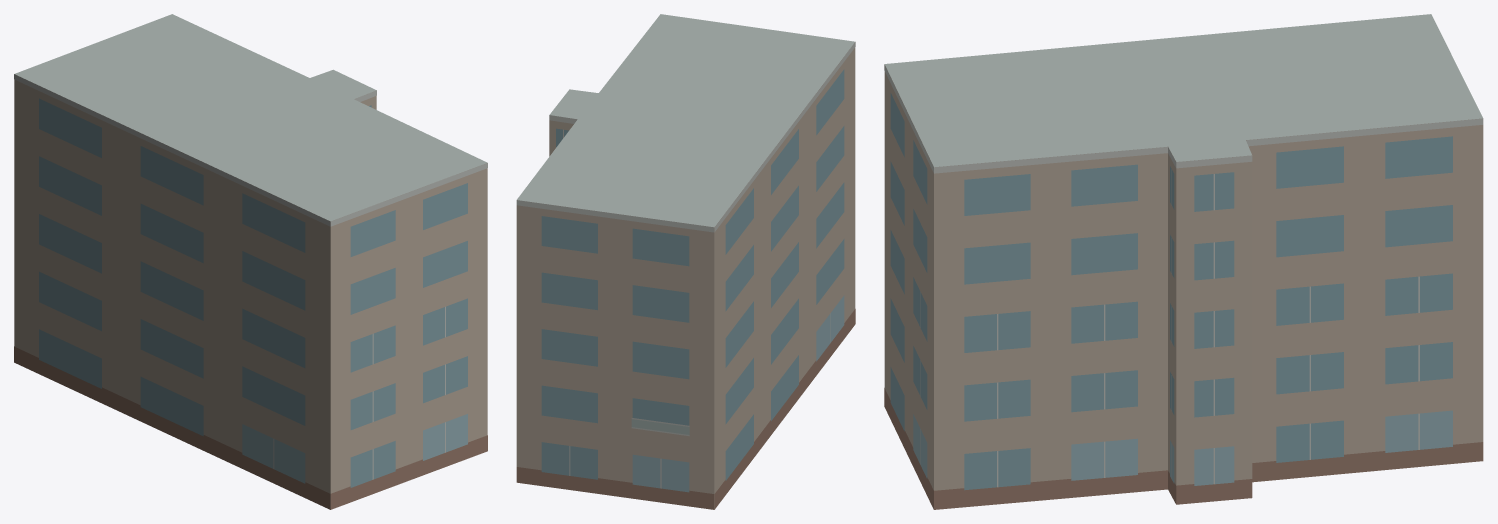
The model's file is survey-upis-32699863.glb.
3 views of the same model, side by side, from view 1: azimuth 30°, elevation 25°; view 2: azimuth 150°, elevation 25°; view 3: azimuth 270°, elevation 25° (orthographic). The views are drawn at different scales.
Visible parts, largest first — view 1: survey-upis-32699863.tmp; view 2: survey-upis-32699863.tmp; view 3: survey-upis-32699863.tmp.
Boxes of the visible parts, x1=… form: survey-upis-32699863.tmp: x1=14, y1=14, x2=487, y2=509; survey-upis-32699863.tmp: x1=516, y1=14, x2=855, y2=509; survey-upis-32699863.tmp: x1=884, y1=14, x2=1483, y2=509.
Bounding box in the file's own units: 12.57 × 13.1 × 20.76.
